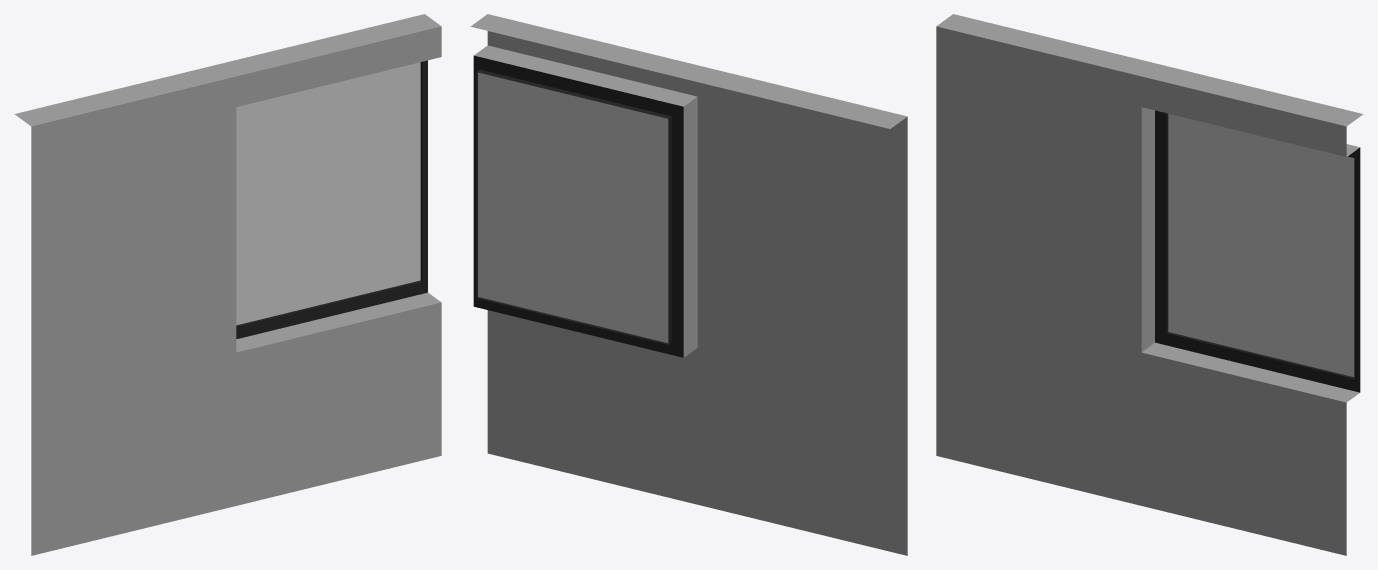
File: M_WallWindow200White60.fbx
The picture shows the model from 3 angles, left to right: view 1: azimuth 30°, elevation 25°; view 2: azimuth 150°, elevation 25°; view 3: azimuth 330°, elevation 25°; orthographic projection. The views are drawn at different scales.
Visible parts, largest first — view 1: M_WallWindow200White60; view 2: M_WallWindow200White60; view 3: M_WallWindow200White60.
Boxes of the visible parts, bbox=[...] form: M_WallWindow200White60: bbox=[14, 14, 441, 555]; M_WallWindow200White60: bbox=[471, 14, 907, 555]; M_WallWindow200White60: bbox=[936, 14, 1363, 555].
Size of the model in its own units: 350 by 25 by 350.
